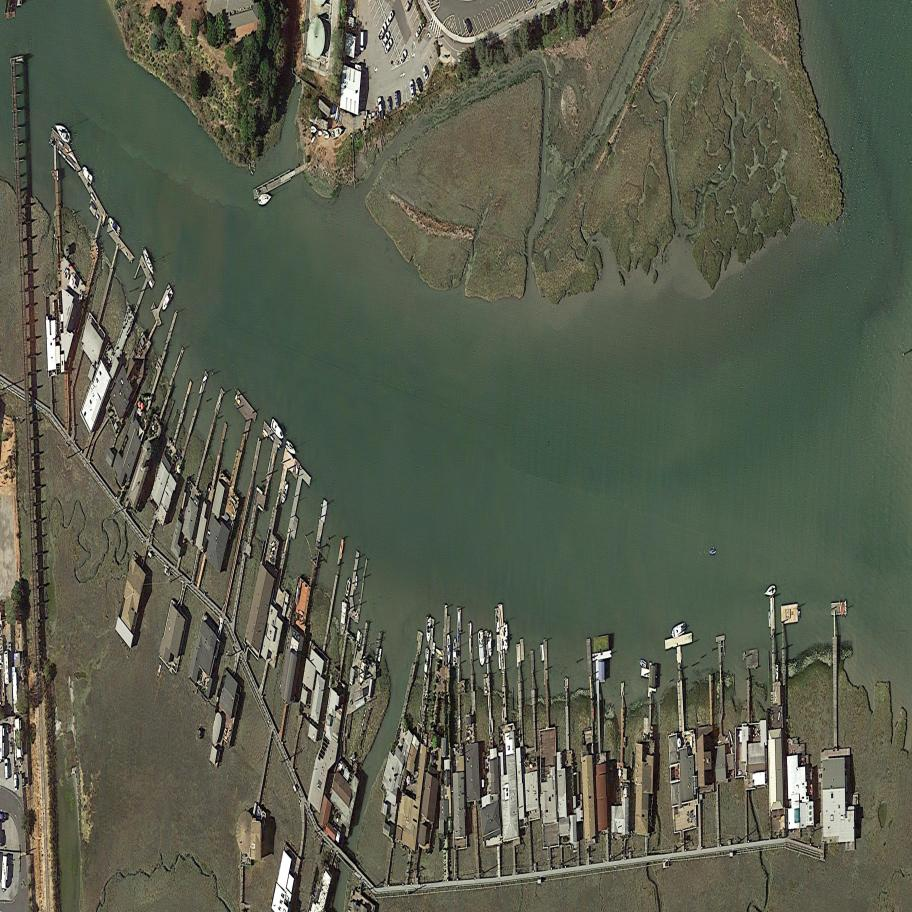ship: (49, 118, 77, 147), (139, 245, 157, 278), (266, 417, 288, 443), (158, 286, 176, 314), (338, 596, 349, 638), (104, 214, 124, 237), (667, 621, 690, 640), (281, 438, 301, 458), (78, 164, 96, 185), (477, 629, 486, 668), (760, 583, 780, 600), (255, 191, 274, 208), (279, 479, 290, 507), (358, 656, 367, 687), (328, 125, 346, 140), (503, 624, 509, 654), (636, 658, 650, 670), (344, 577, 352, 598), (423, 648, 429, 675), (487, 632, 493, 659), (446, 634, 451, 665), (426, 616, 431, 646), (453, 639, 458, 668), (539, 642, 545, 663), (357, 632, 363, 650), (353, 575, 359, 592), (457, 610, 461, 628), (309, 124, 317, 133), (709, 548, 717, 556), (324, 129, 330, 139), (318, 129, 323, 137)
small-vehicle: (396, 47, 410, 67), (412, 20, 426, 40), (376, 21, 389, 42), (381, 36, 395, 55), (383, 8, 397, 27), (380, 28, 393, 48), (413, 74, 426, 94), (419, 64, 431, 83), (463, 17, 474, 36), (377, 96, 384, 120), (386, 94, 392, 116), (410, 79, 416, 100), (394, 90, 400, 110), (4, 757, 9, 781), (13, 773, 18, 793), (360, 31, 364, 52), (10, 738, 14, 755)
storage-tank: (307, 12, 326, 60)
